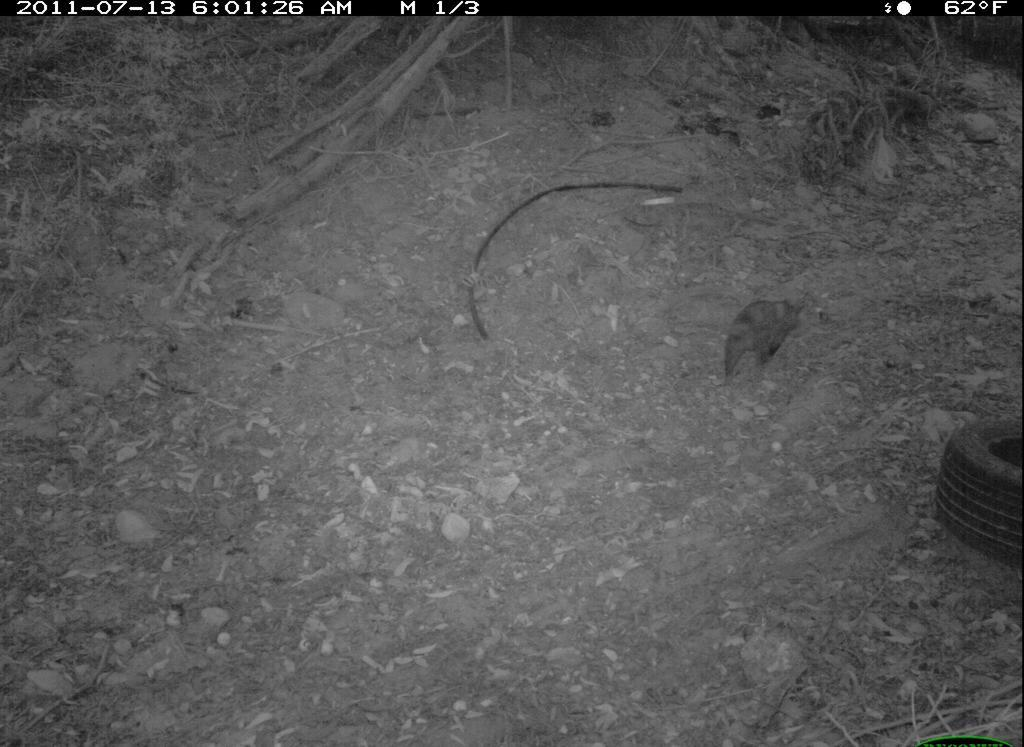opossum: (701, 272, 822, 396)
